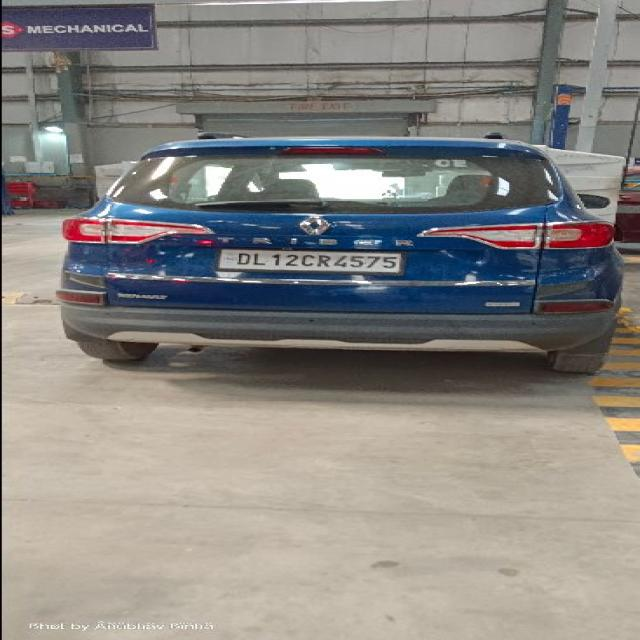license_plate: (213, 247, 406, 275)
